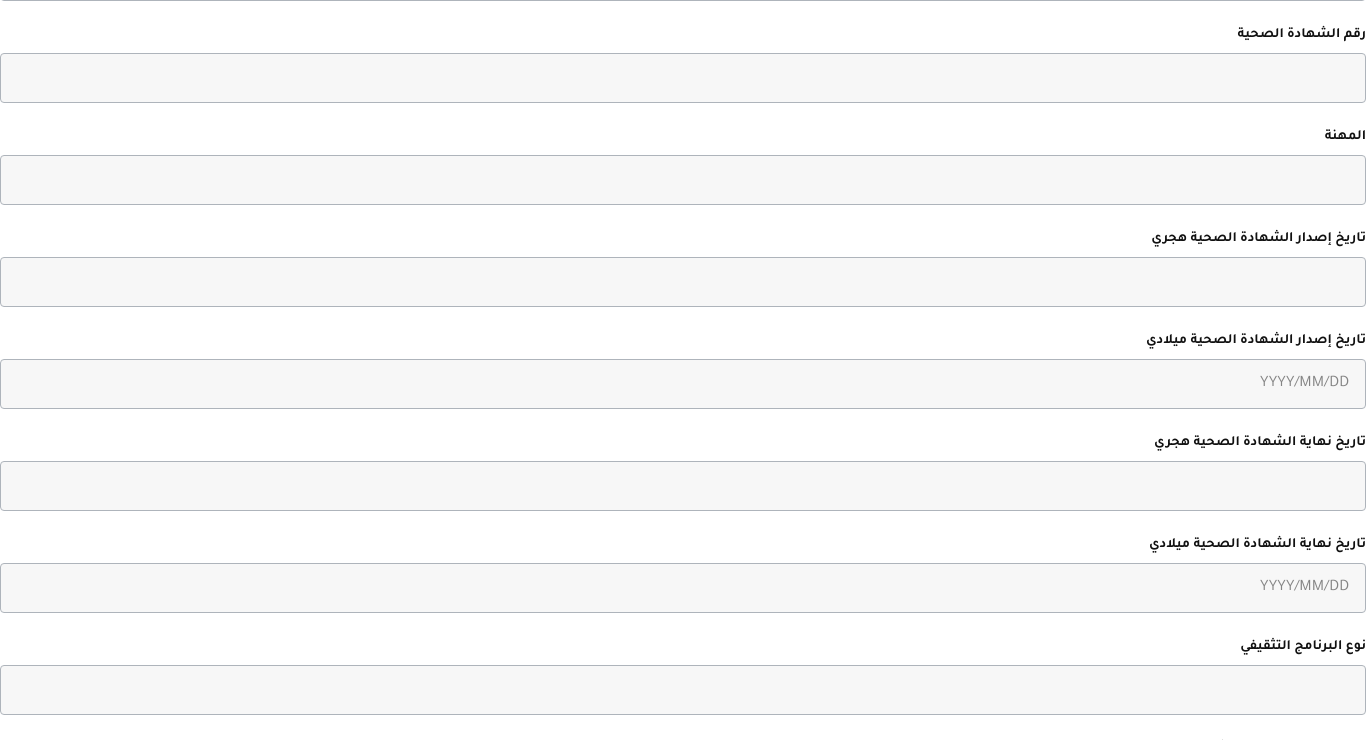
Test case: EmployeeForm › auto-fills the program completion Hijri date as issue date + 1095 days when the issue date changes
(page scrolled)
Step 1. Type "2026-06-30" into the field labelled "تاريخ إصدار الشهادة الصحية ميلادي" → (683, 384), box x1=0 y1=359 x2=1365 y2=409
(page scrolled)
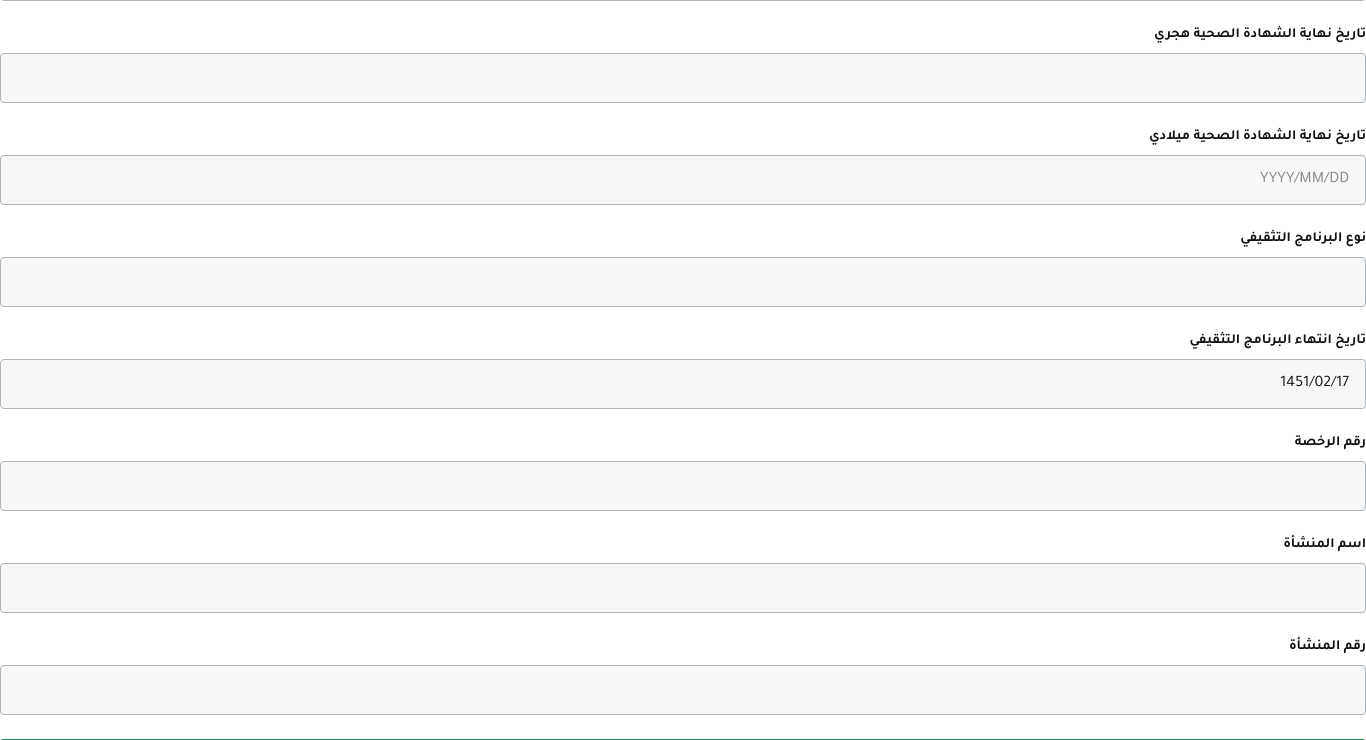
Expected: the field labelled "تاريخ انتهاء البرنامج التثقيفي" holds "1451/02/17", x1=0 y1=359 x2=1365 y2=409
